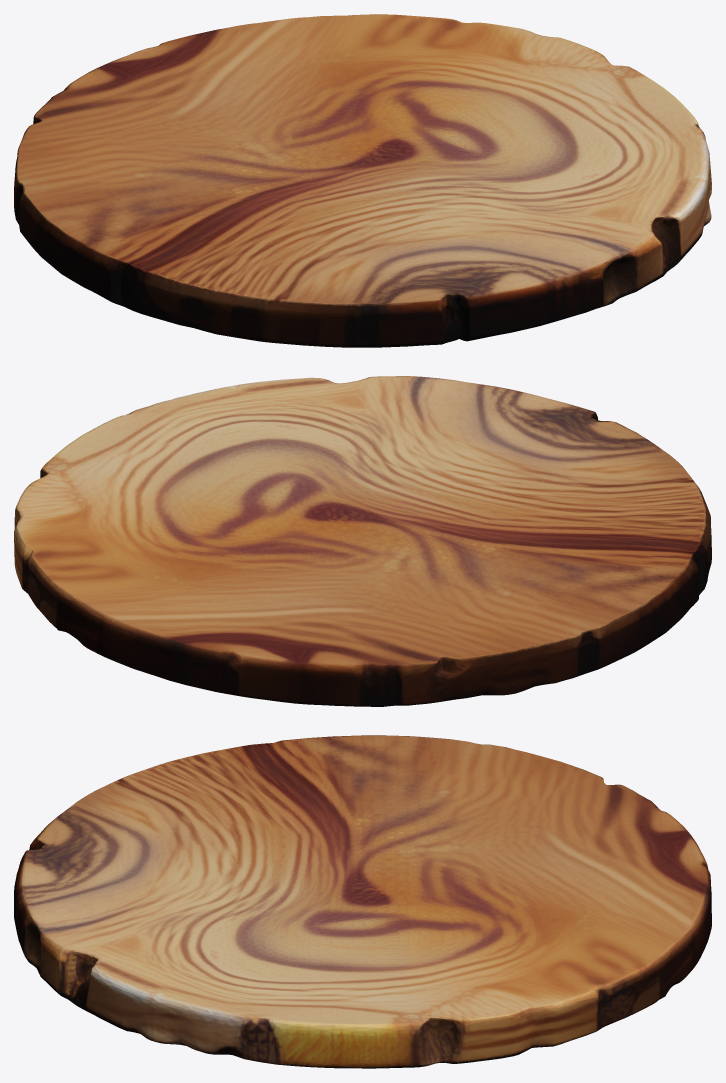
File: wooden-coaster-dune.jpeg.glb
3 renders of one model, top to bottom at view 1: azimuth 30°, elevation 25°; view 2: azimuth 150°, elevation 25°; view 3: azimuth 270°, elevation 25°, orthographic.
Parts seen in each view (by area): view 1: world; view 2: world; view 3: world.
Part boxes in pixels (x1=…): world: x1=14, y1=14, x2=711, y2=347; world: x1=14, y1=376, x2=711, y2=706; world: x1=14, y1=735, x2=711, y2=1068.
Bounding box in the file's own units: 0.9977 × 0.0697 × 0.9961.
Materials: 1 (1 with a texture image).
